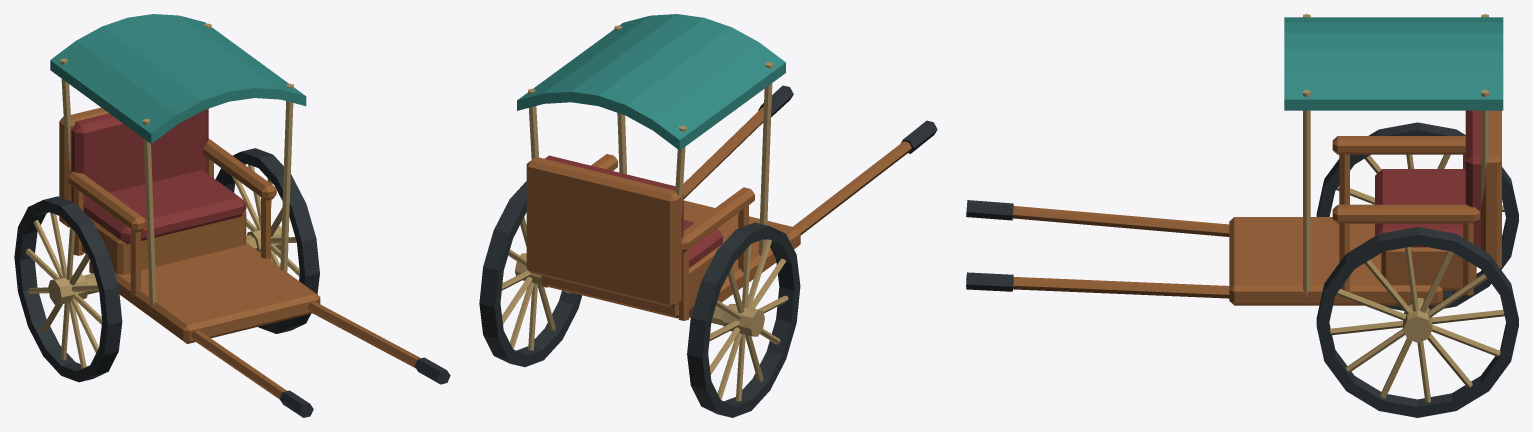
Rendered from NEW_RECOVERY_117_LOD2.glb.
The picture shows the model from 3 angles, left to right: view 1: azimuth 30°, elevation 25°; view 2: azimuth 150°, elevation 25°; view 3: azimuth 270°, elevation 25°; orthographic projection. The views are drawn at different scales.
Parts seen in each view (by area): view 1: Rickshaw_static_fused; view 2: Rickshaw_static_fused; view 3: Rickshaw_static_fused.
Boxes of the visible parts, x1,y1,x2,y2 form: Rickshaw_static_fused: [14, 14, 450, 417]; Rickshaw_static_fused: [479, 14, 937, 417]; Rickshaw_static_fused: [966, 14, 1518, 417].
Bounding box in the file's own units: 2 × 2.58 × 3.93.
